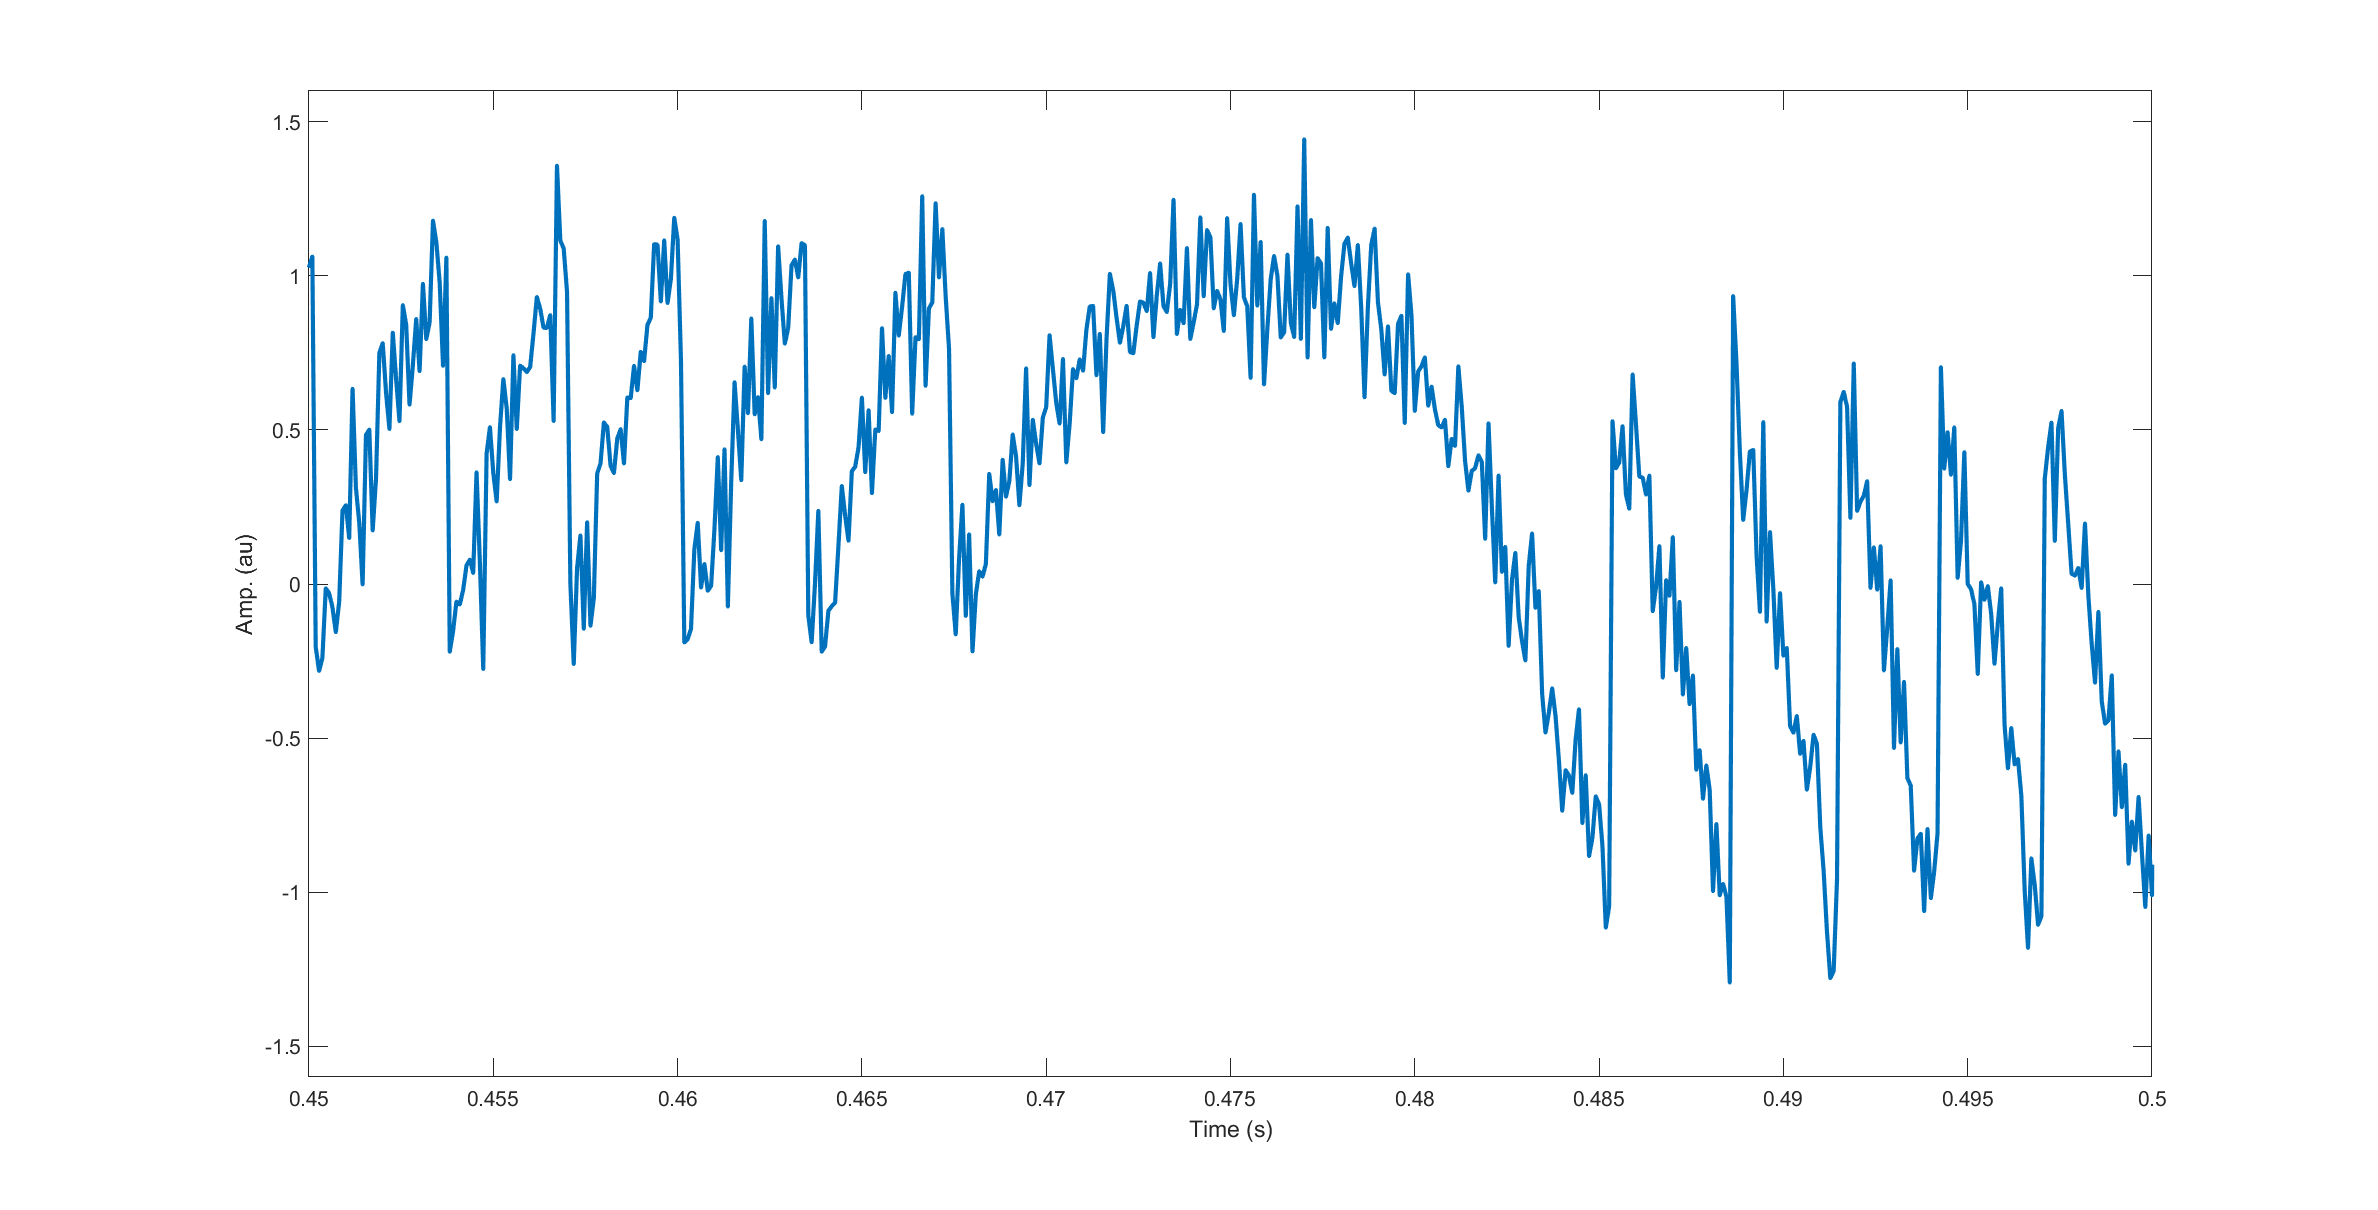negative_fringe: (1721, 282, 1821, 992), (1597, 350, 1705, 928), (2022, 404, 2126, 965), (1829, 357, 1917, 974), (1926, 344, 2017, 900)
positive_fringe: (821, 193, 960, 642), (326, 208, 458, 647), (469, 154, 576, 687), (694, 208, 816, 657), (583, 215, 694, 647)
